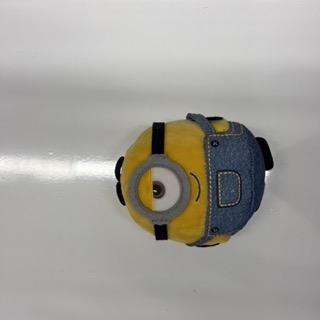minion: (114, 113, 274, 248)
